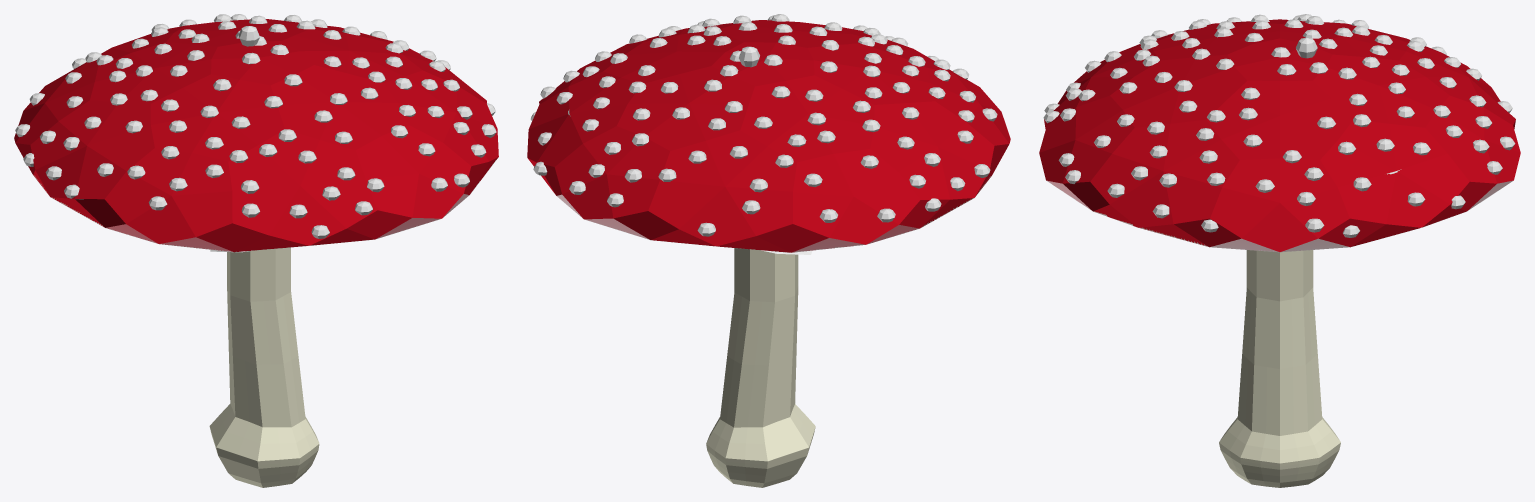
Rendered from mush-musc.glb.
3 renders of one model, left to right at view 1: azimuth 30°, elevation 25°; view 2: azimuth 150°, elevation 25°; view 3: azimuth 270°, elevation 25°, orthographic.
Visible parts, largest first — view 1: Hat, Foot; view 2: Hat, Foot; view 3: Hat, Foot.
Boxes of the visible parts, left/top/right/bottom form: Hat: left=14, top=14, right=498, bottom=252; Foot: left=209, top=247, right=319, bottom=487; Hat: left=527, top=14, right=1010, bottom=252; Foot: left=706, top=248, right=815, bottom=487; Hat: left=1039, top=14, right=1520, bottom=252; Foot: left=1219, top=250, right=1340, bottom=487.
Size of the model in its own units: 7.34 by 7.26 by 7.26.
2 materials, 1 textured.
